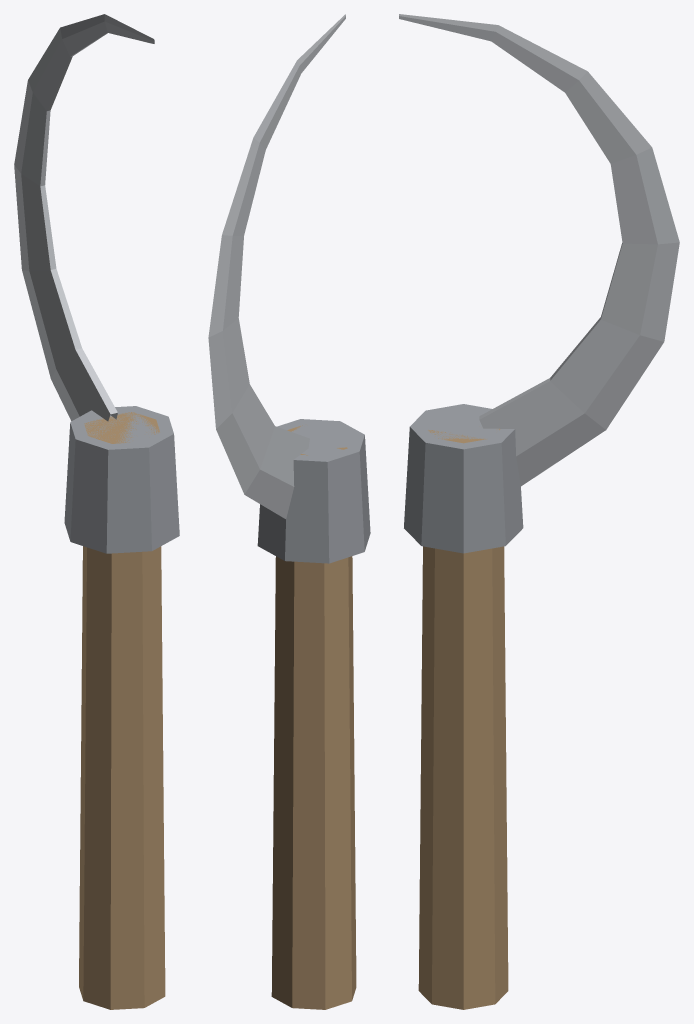
File: FarmTool.fbx
The picture shows the model from 3 angles, left to right: view 1: azimuth 30°, elevation 25°; view 2: azimuth 150°, elevation 25°; view 3: azimuth 270°, elevation 25°; orthographic projection. The views are drawn at different scales.
Parts seen in each view (by area): view 1: Tool_Sickle; view 2: Tool_Sickle; view 3: Tool_Sickle.
Part boxes in pixels (x1=…): Tool_Sickle: x1=14, y1=14, x2=179, y2=1009; Tool_Sickle: x1=208, y1=14, x2=370, y2=1009; Tool_Sickle: x1=399, y1=14, x2=679, y2=1009.
Bounding box in the file's own units: 0.048 × 0.4328 × 0.1127.
